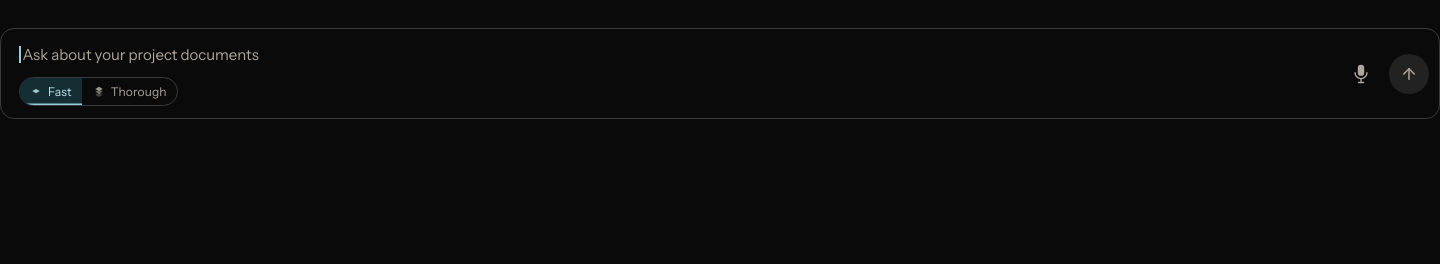
Test: ChatPanel long answer streaming › replays a disconnected turn through GET without duplicating text or resending the request
Type "Research local firms" into the text box named "Message". click: (673, 55)
box: [22,45,1323,65]
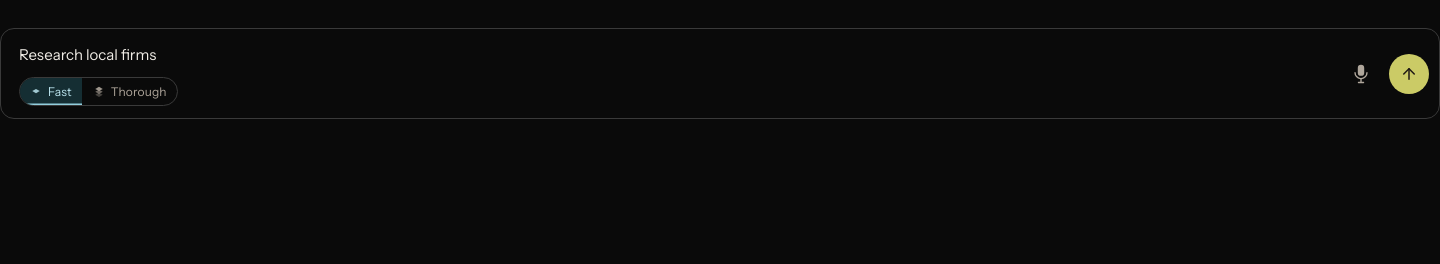
Click the button named "Ask SiteWise". click: (1409, 74)
box: [1389,54,1429,94]
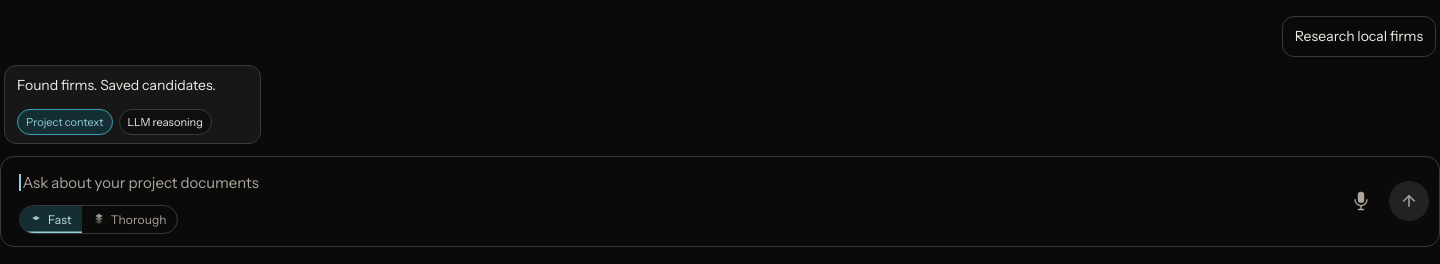
Check: the element named "Conversation history" shows "Saved candidates.", box [17,76,216,94]
